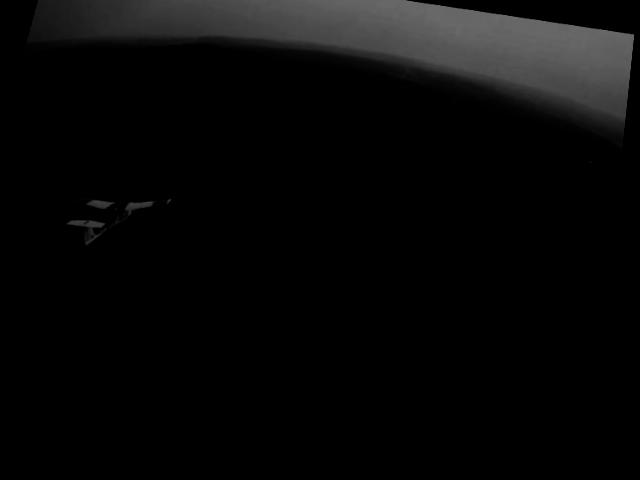hedef: (48, 170, 183, 272)
